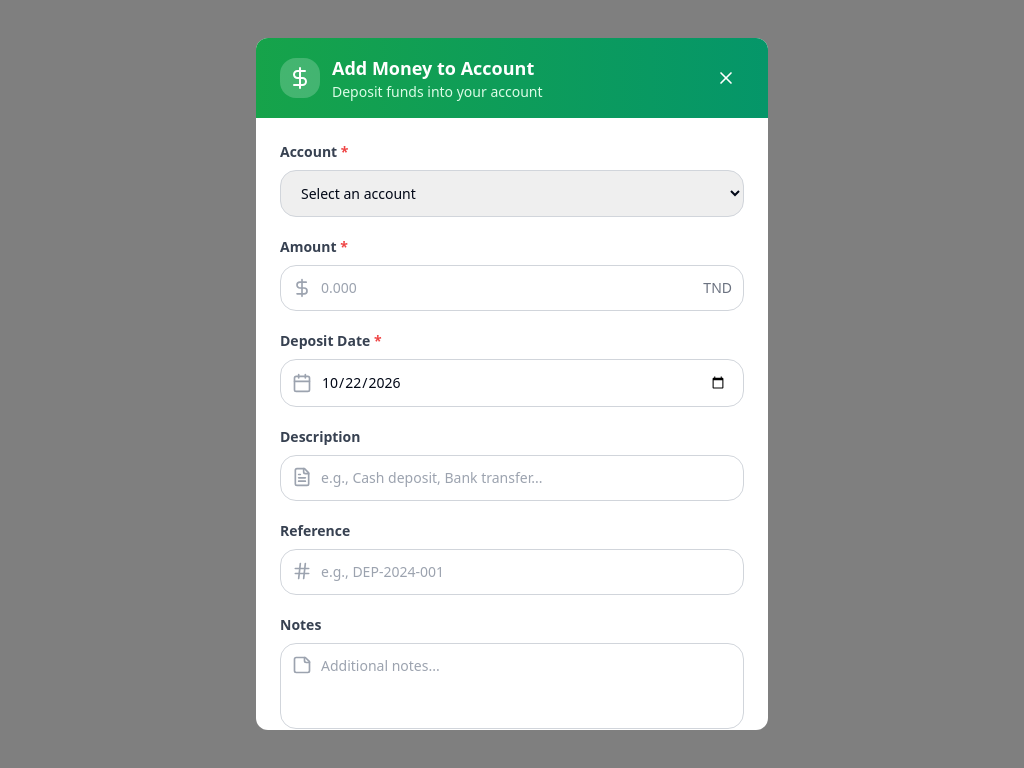
Test: DepositModal › Form Submission › should handle submission errors
Select "Main Bank Account - 10 000,000 TND" in the dropdown: (512, 194) left=280, top=170, right=744, bottom=217
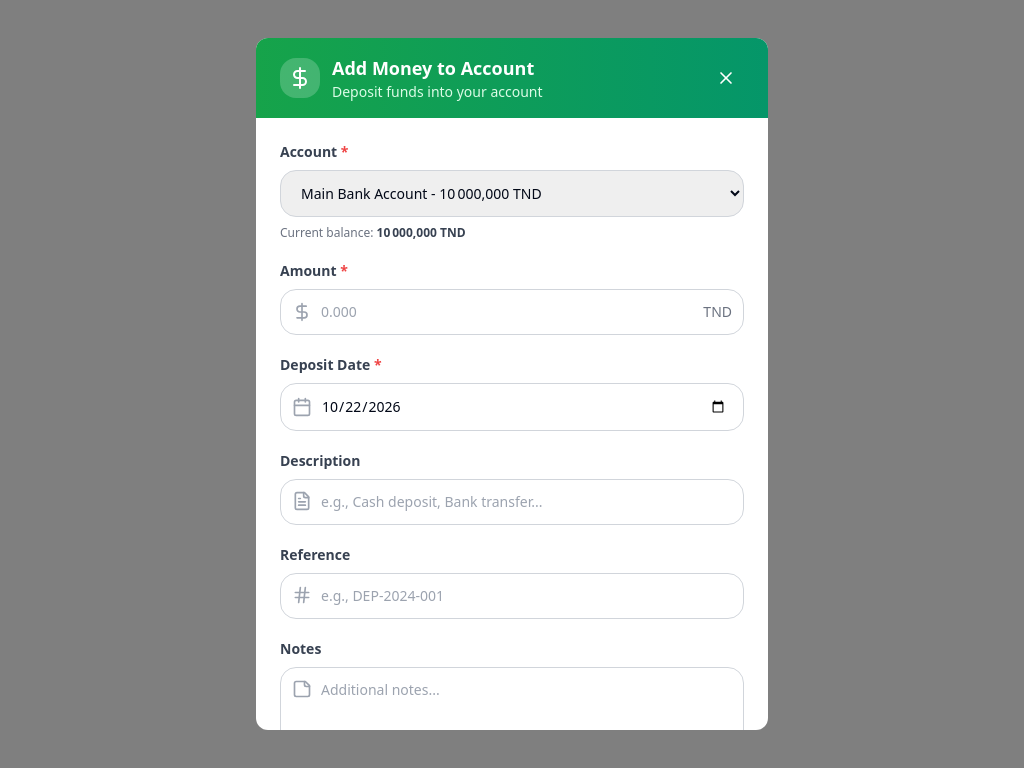
In the number field with placeholder "0.000": (512, 312) left=280, top=289, right=744, bottom=335, type "1000"
(page scrolled)
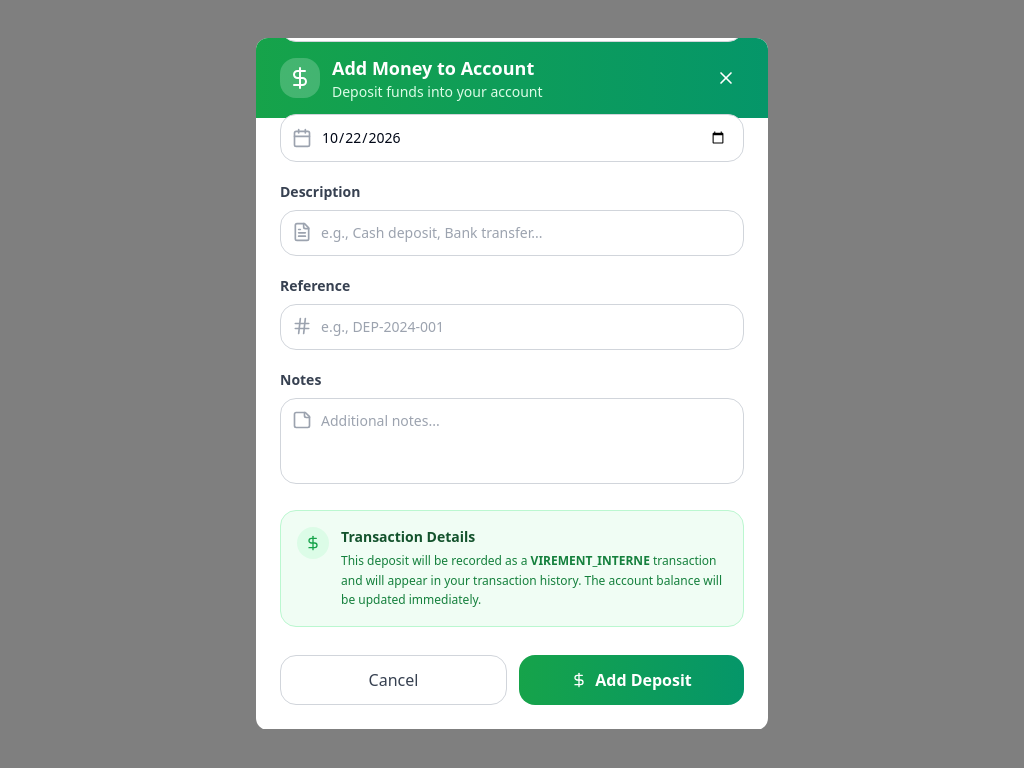
Click the button "Add Deposit": (632, 680) left=519, top=655, right=744, bottom=705
(page scrolled)
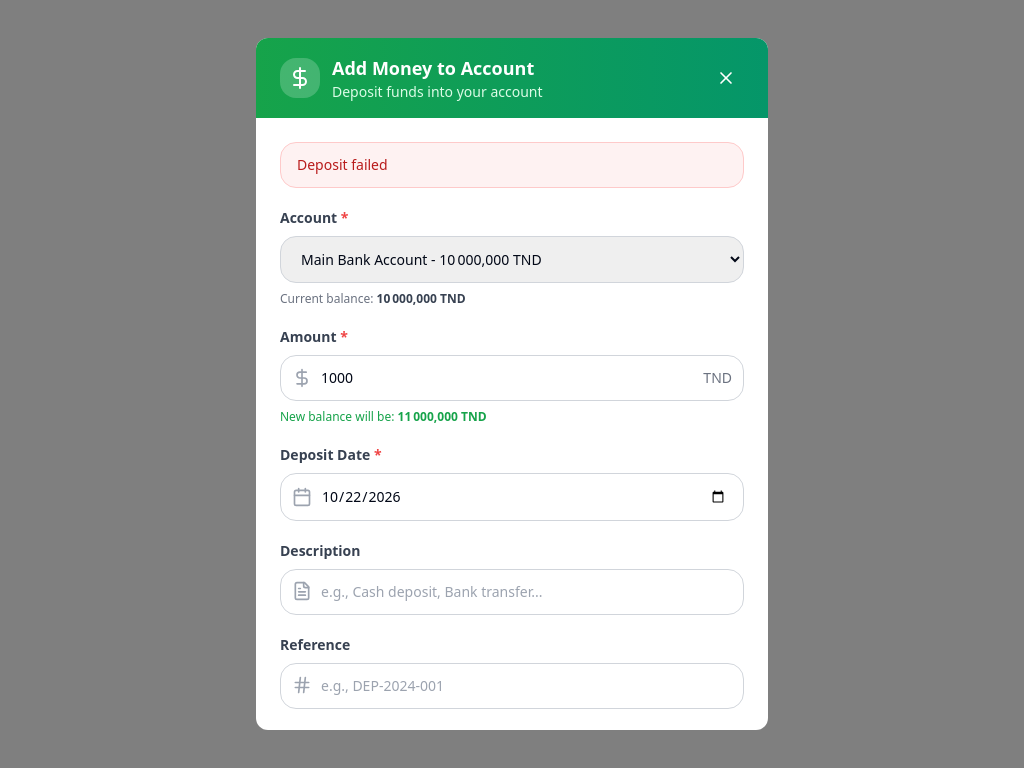
Expected: the text "Deposit failed" is shown, left=280, top=142, right=744, bottom=188
